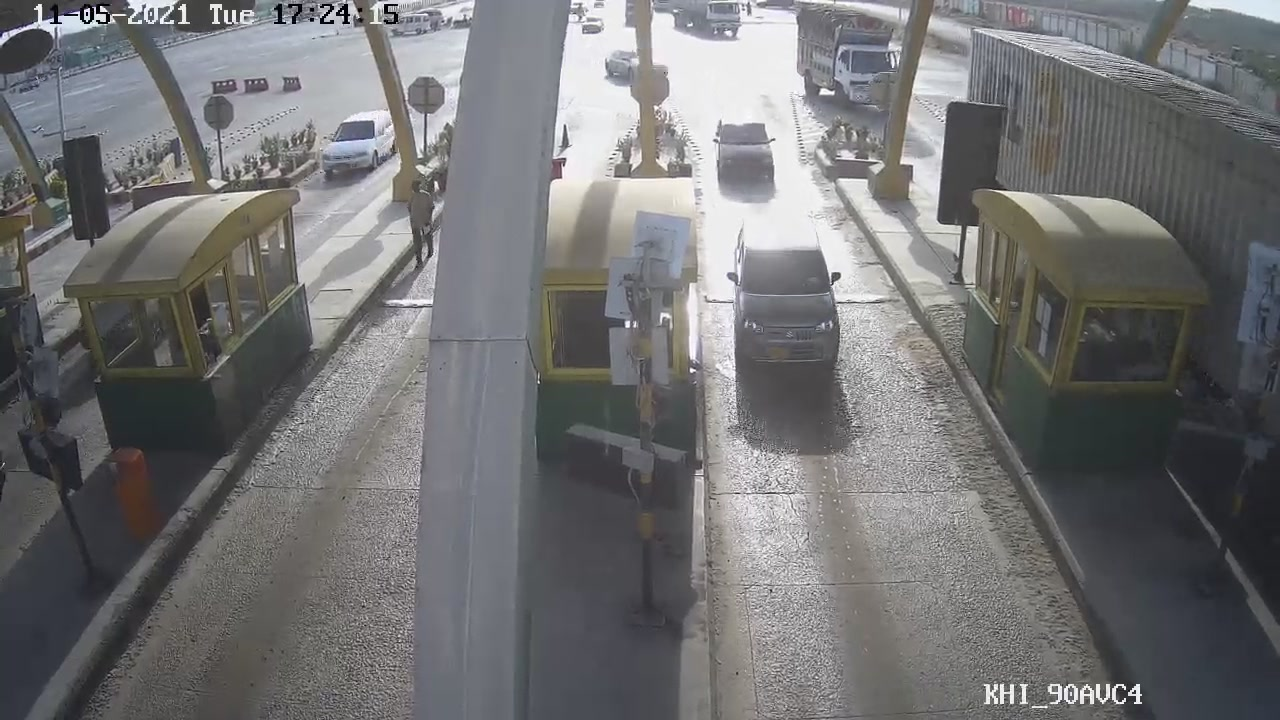F1: (725, 214, 849, 381)
